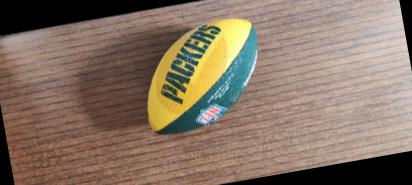Rugby: (132, 12, 272, 140)
